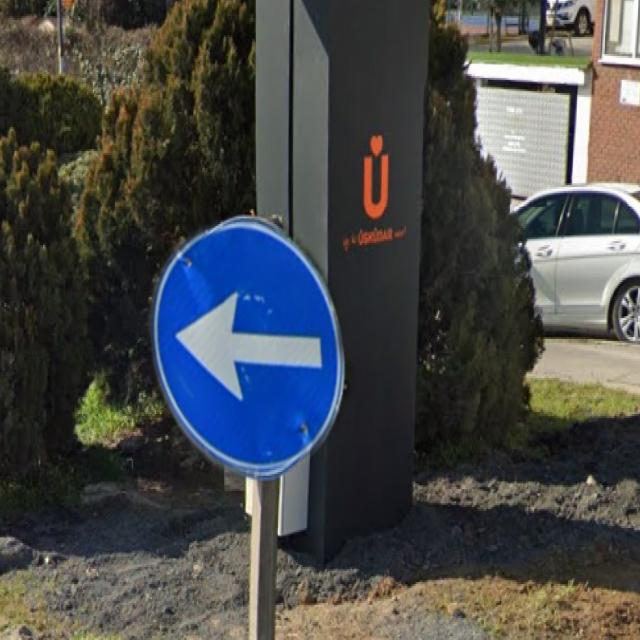Turn Left: (149, 212, 347, 475)
